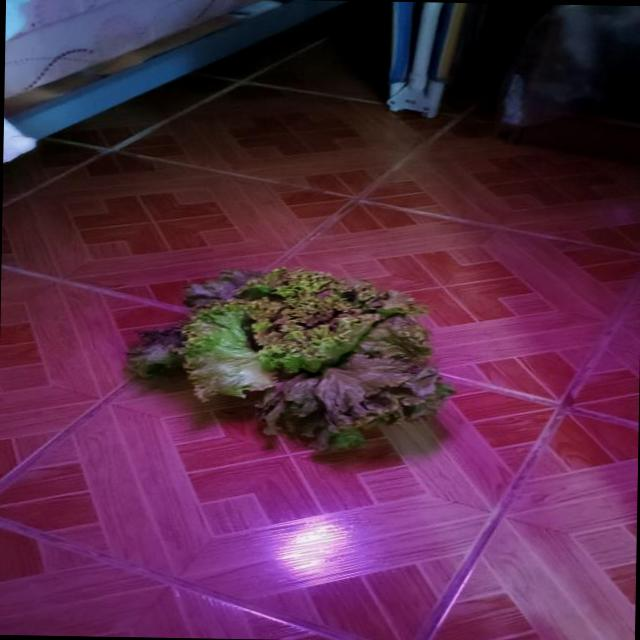Lettuce-Ready-to-Harvest: (131, 267, 451, 448)
